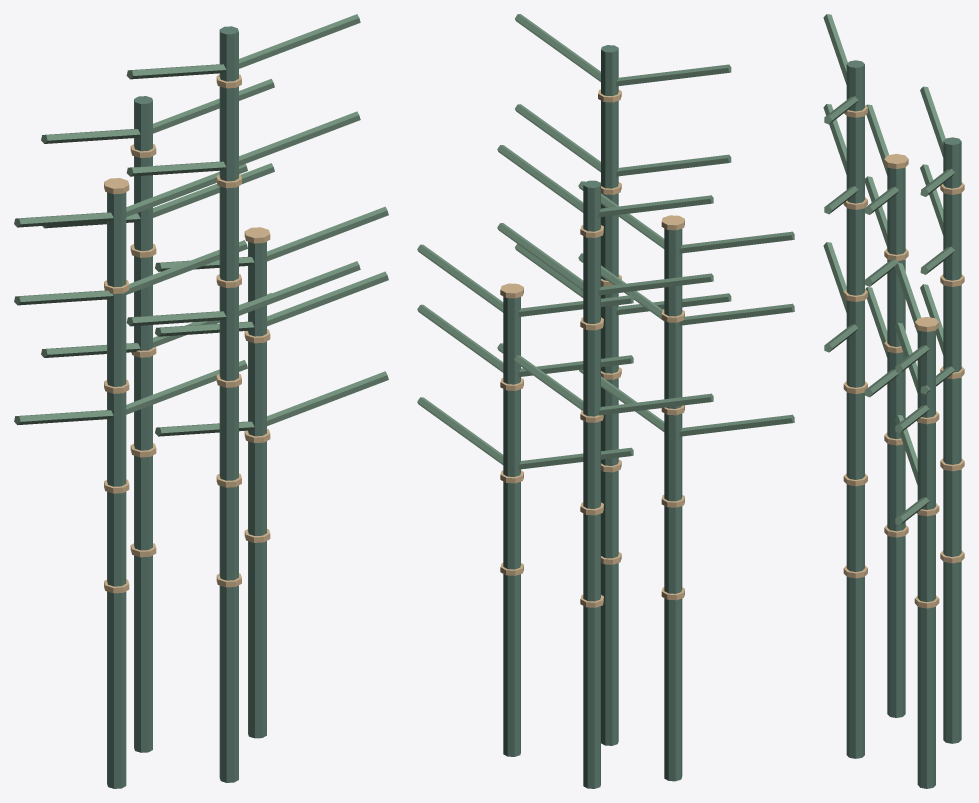
File: moonfall_bamboo_cluster.glb
3 renders of one model, left to right at view 1: azimuth 30°, elevation 25°; view 2: azimuth 150°, elevation 25°; view 3: azimuth 270°, elevation 25°, orthographic. The views are drawn at different scales.
Visible parts, largest first — view 1: moonfall_bamboo_cluster_12, moonfall_bamboo_cluster_00, moonfall_bamboo_cluster_36, moonfall_bamboo_cluster_25, moonfall_bamboo_cluster_33, moonfall_bamboo_cluster_31, moonfall_bamboo_cluster_35, moonfall_bamboo_cluster_24, moonfall_bamboo_cluster_20, moonfall_bamboo_cluster_22, moonfall_bamboo_cluster_47, moonfall_bamboo_cluster_07 (+13 smaller); view 2: moonfall_bamboo_cluster_12, moonfall_bamboo_cluster_36, moonfall_bamboo_cluster_00, moonfall_bamboo_cluster_25, moonfall_bamboo_cluster_10, moonfall_bamboo_cluster_23, moonfall_bamboo_cluster_44, moonfall_bamboo_cluster_46, moonfall_bamboo_cluster_06, moonfall_bamboo_cluster_21, moonfall_bamboo_cluster_42, moonfall_bamboo_cluster_08 (+13 smaller); view 3: moonfall_bamboo_cluster_12, moonfall_bamboo_cluster_36, moonfall_bamboo_cluster_00, moonfall_bamboo_cluster_25, moonfall_bamboo_cluster_46, moonfall_bamboo_cluster_23, moonfall_bamboo_cluster_34, moonfall_bamboo_cluster_19, moonfall_bamboo_cluster_10, moonfall_bamboo_cluster_06, moonfall_bamboo_cluster_42, moonfall_bamboo_cluster_44 (+17 smaller).
Boxes of the visible parts, x1,y1,x2,y2 form: moonfall_bamboo_cluster_12: [219, 26, 238, 782]; moonfall_bamboo_cluster_00: [107, 192, 126, 788]; moonfall_bamboo_cluster_36: [134, 96, 152, 752]; moonfall_bamboo_cluster_25: [248, 241, 266, 738]; moonfall_bamboo_cluster_33: [267, 271, 388, 326]; moonfall_bamboo_cluster_31: [267, 371, 388, 425]; moonfall_bamboo_cluster_35: [267, 206, 388, 261]; moonfall_bamboo_cluster_24: [239, 14, 360, 68]; moonfall_bamboo_cluster_20: [239, 261, 360, 315]; moonfall_bamboo_cluster_22: [239, 111, 360, 165]; moonfall_bamboo_cluster_47: [153, 79, 274, 133]; moonfall_bamboo_cluster_07: [126, 360, 247, 414]; moonfall_bamboo_cluster_12: [601, 45, 618, 745]; moonfall_bamboo_cluster_36: [583, 180, 600, 788]; moonfall_bamboo_cluster_00: [664, 228, 682, 781]; moonfall_bamboo_cluster_25: [503, 296, 520, 756]; moonfall_bamboo_cluster_10: [679, 231, 794, 253]; moonfall_bamboo_cluster_23: [616, 64, 731, 86]; moonfall_bamboo_cluster_44: [598, 273, 713, 295]; moonfall_bamboo_cluster_46: [598, 195, 713, 217]; moonfall_bamboo_cluster_06: [679, 414, 794, 436]; moonfall_bamboo_cluster_21: [616, 154, 731, 176]; moonfall_bamboo_cluster_42: [598, 393, 713, 415]; moonfall_bamboo_cluster_08: [679, 303, 794, 325]; moonfall_bamboo_cluster_12: [846, 60, 864, 758]; moonfall_bamboo_cluster_36: [943, 137, 961, 743]; moonfall_bamboo_cluster_00: [887, 167, 905, 717]; moonfall_bamboo_cluster_25: [917, 330, 935, 788]; moonfall_bamboo_cluster_46: [920, 86, 945, 157]; moonfall_bamboo_cluster_23: [823, 14, 847, 84]; moonfall_bamboo_cluster_34: [894, 263, 921, 332]; moonfall_bamboo_cluster_19: [823, 242, 846, 312]; moonfall_bamboo_cluster_10: [866, 104, 888, 175]; moonfall_bamboo_cluster_06: [865, 287, 887, 357]; moonfall_bamboo_cluster_42: [920, 284, 943, 354]; moonfall_bamboo_cluster_44: [920, 164, 943, 235].
Bounding box in the file's own units: 8.16 × 15 × 2.78.
